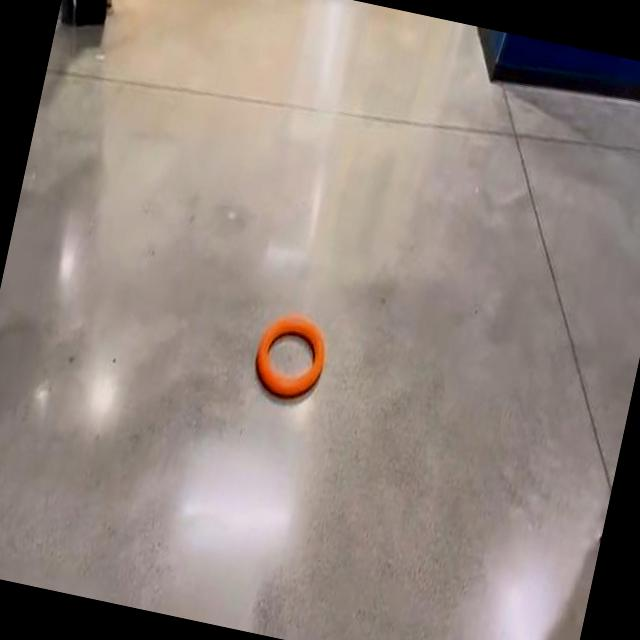note: (256, 314, 325, 397)
